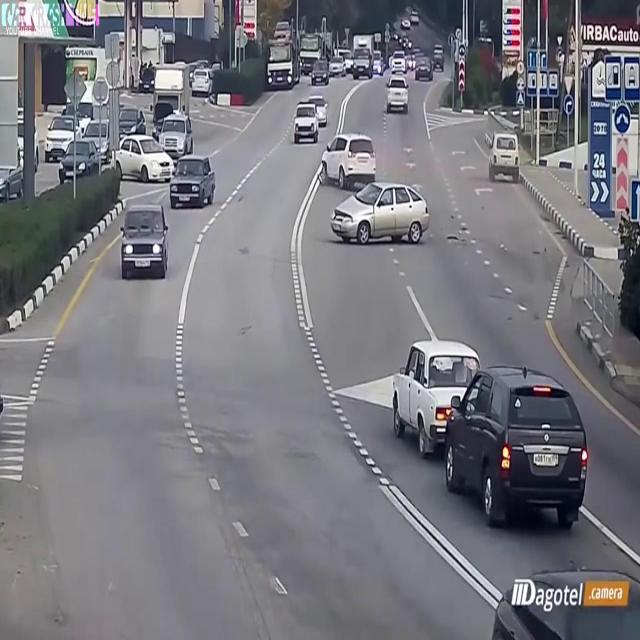accident: (316, 131, 436, 256)
non_accident: (390, 334, 594, 542), (43, 57, 220, 288), (290, 88, 330, 148)
